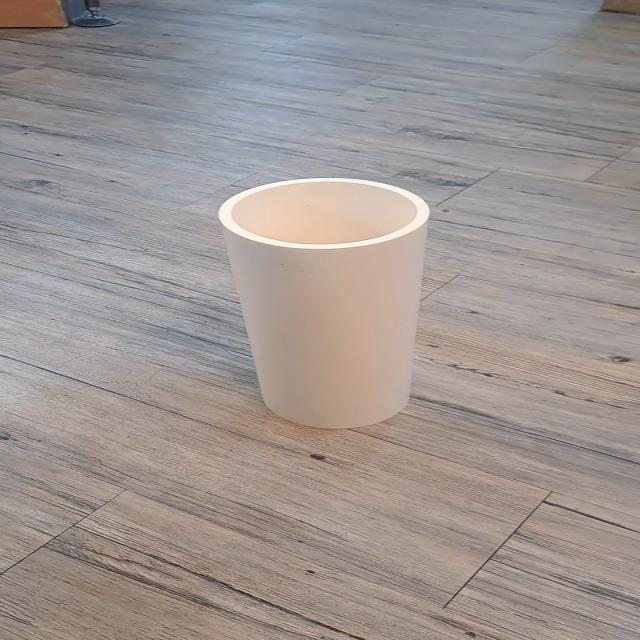CORAL: (210, 174, 438, 430)
